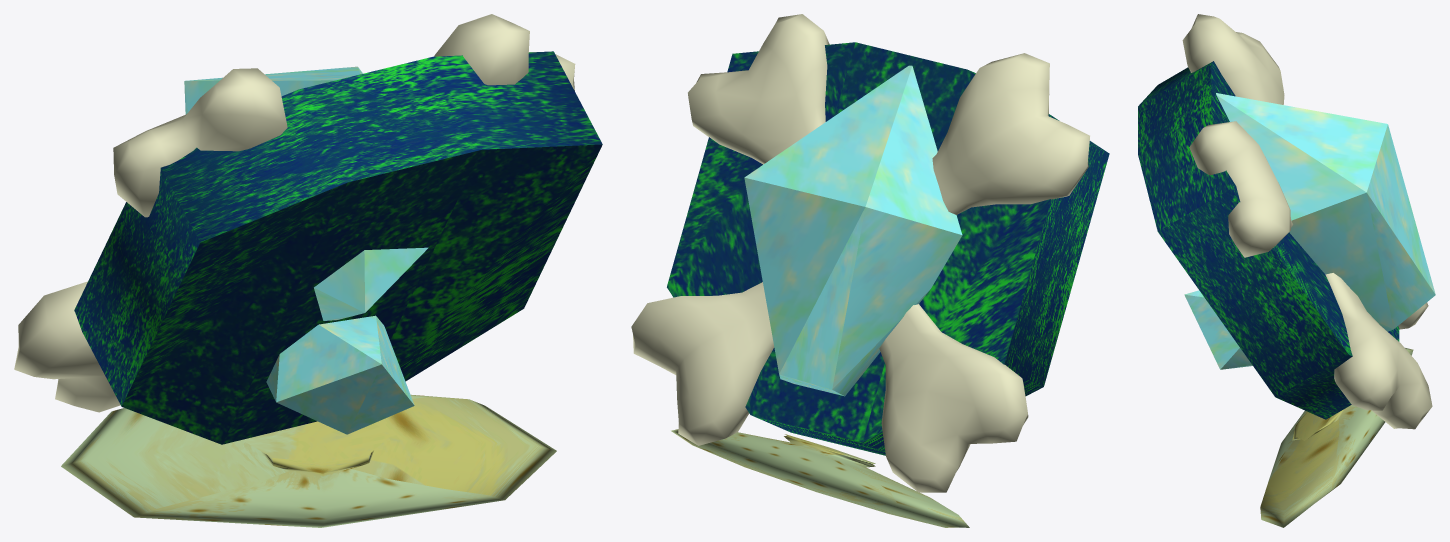
Rendered from RunningIdol.fbx.
3 renders of one model, left to right at view 1: azimuth 30°, elevation 25°; view 2: azimuth 150°, elevation 25°; view 3: azimuth 270°, elevation 25°, orthographic. The views are drawn at different scales.
Parts seen in each view (by area): view 1: Idol, PearCactus, Rock, Bone (1), Bone; view 2: Idol, Rock, Bone, Bone (1), PearCactus; view 3: Idol, Rock, Bone, PearCactus, Bone (1).
Part boxes in pixels (left/top/right/bottom): Idol: left=74, top=51, right=602, bottom=444; PearCactus: left=61, top=394, right=556, bottom=527; Rock: left=184, top=66, right=428, bottom=434; Bone (1): left=14, top=14, right=575, bottom=412; Bone: left=113, top=68, right=287, bottom=217; Idol: left=667, top=42, right=1109, bottom=455; Rock: left=744, top=65, right=962, bottom=396; Bone: left=631, top=53, right=1089, bottom=445; Bone (1): left=688, top=14, right=1028, bottom=492; PearCactus: left=671, top=429, right=969, bottom=527; Idol: left=1138, top=61, right=1399, bottom=419; Rock: left=1184, top=93, right=1435, bottom=369; Bone: left=1182, top=14, right=1432, bottom=429; PearCactus: left=1260, top=348, right=1413, bottom=527; Bone (1): left=1189, top=121, right=1428, bottom=329.
Bounding box in the file's own units: 0.6818 × 0.7137 × 0.4879.
